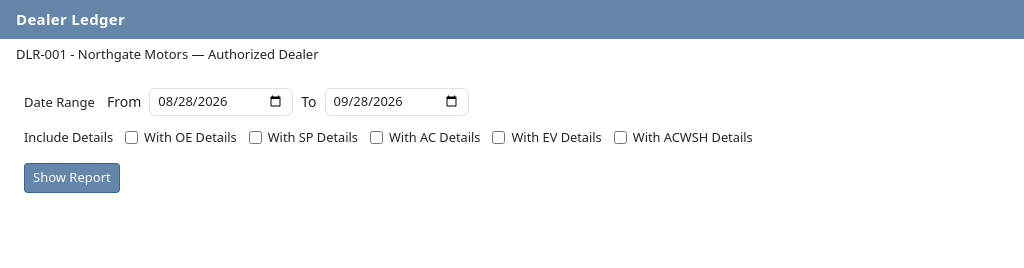
Test: DealerLedgerListComponent › disables Show Report when the filter panel reports an invalid date range
The image size is (1024, 268).
Type "2024-02-01" into the date field with id "report-search-bar-date-from" at (221, 102), box [149,88,293,116]
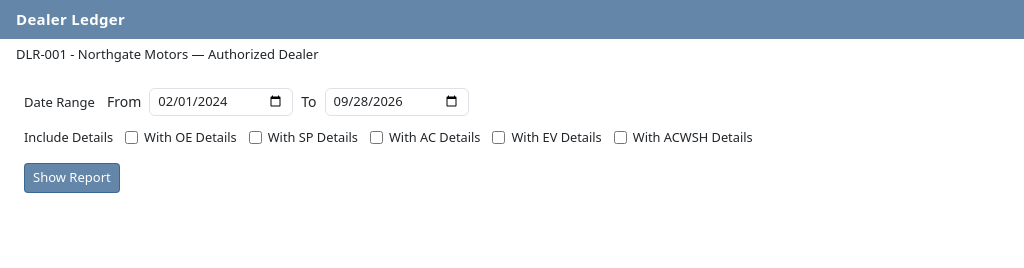
Type "2024-01-01" into the date field with id "report-search-bar-date-to" at (396, 102), box [324,88,468,116]
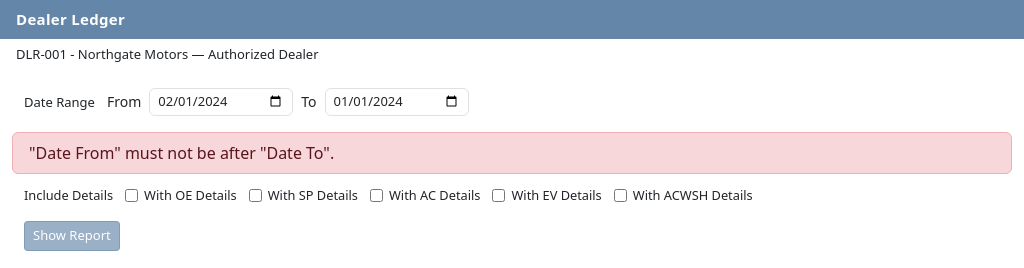
Expected: the button with class "dealer-ledger-list__show-report-btn" is disabled, [24,221,120,251]
